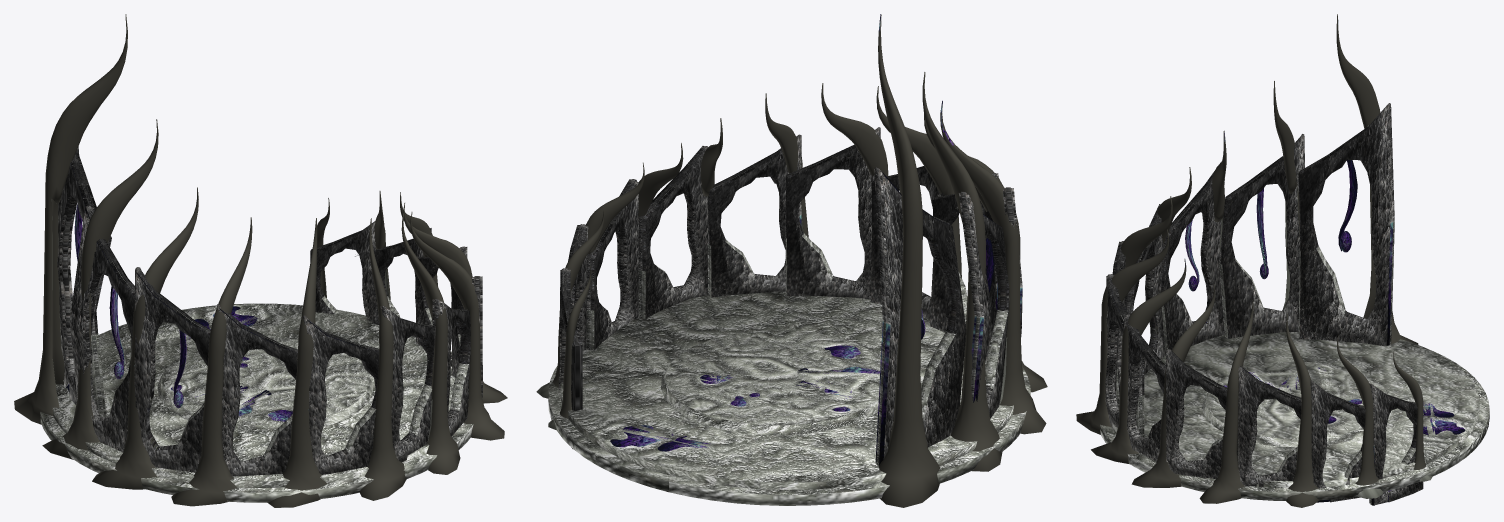
File: Inner_Sanctuary_03.fbx
3 views of the same model, side by side, from view 1: azimuth 30°, elevation 25°; view 2: azimuth 150°, elevation 25°; view 3: azimuth 270°, elevation 25° (orthographic). The views are drawn at different scales.
Parts seen in each view (by area): view 1: Sanctuary_Inner; view 2: Sanctuary_Inner; view 3: Sanctuary_Inner.
Part boxes in pixels (x1,y1,x2,y2): Sanctuary_Inner: [14, 14, 507, 507]; Sanctuary_Inner: [536, 14, 1047, 507]; Sanctuary_Inner: [1076, 14, 1489, 507].
Size of the model in its own units: 10.66 by 10.51 by 10.52.
